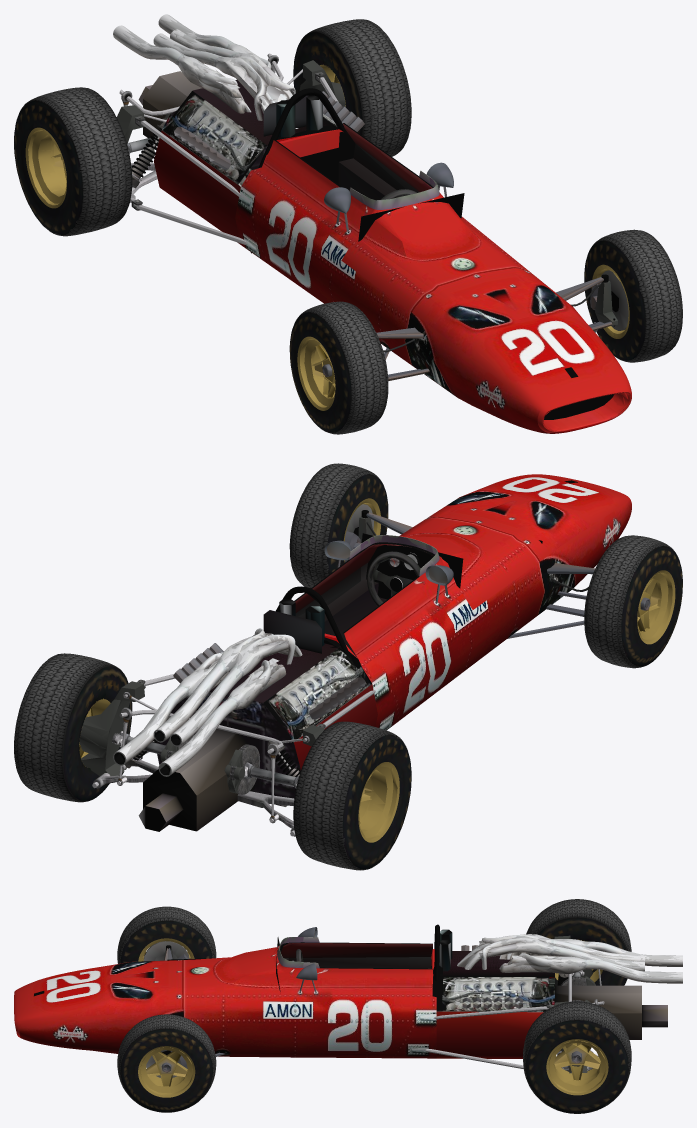
The model's file is ferrari_312.glb.
The picture shows the model from 3 angles, top to bottom: view 1: azimuth 30°, elevation 25°; view 2: azimuth 150°, elevation 25°; view 3: azimuth 270°, elevation 25°; orthographic projection. The views are drawn at different scales.
Visible parts, largest first — view 1: body_mesh (×3), wheel_RL_mesh (×3), wheel_FL_mesh (×3), wheel_FR_mesh (×2), wheel_RR_mesh (×2); view 2: body_mesh (×3), wheel_RL_mesh (×3), wheel_RR_mesh (×2), wheel_FL_mesh (×3), wheel_FR_mesh (×2); view 3: body_mesh (×3), wheel_RR_mesh (×3), wheel_FR_mesh (×3), wheel_FL_mesh (×2), wheel_RL_mesh (×2).
Boxes of the visible parts, x1=… form: body_mesh (×3): x1=113, y1=14, x2=631, y2=433; wheel_RL_mesh (×3): x1=14, y1=87, x2=132, y2=236; wheel_FL_mesh (×3): x1=289, y1=301, x2=388, y2=434; wheel_FR_mesh (×2): x1=584, y1=229, x2=682, y2=362; wheel_RR_mesh (×2): x1=293, y1=19, x2=411, y2=156; body_mesh (×3): x1=79, y1=474, x2=631, y2=836; wheel_RL_mesh (×3): x1=293, y1=721, x2=411, y2=870; wheel_RR_mesh (×2): x1=14, y1=653, x2=132, y2=802; wheel_FL_mesh (×3): x1=584, y1=535, x2=682, y2=668; wheel_FR_mesh (×2): x1=289, y1=463, x2=388, y2=588; body_mesh (×3): x1=14, y1=924, x2=682, y2=1073; wheel_RR_mesh (×3): x1=523, y1=1001, x2=631, y2=1113; wheel_FR_mesh (×3): x1=117, y1=1014, x2=216, y2=1112; wheel_FL_mesh (×2): x1=117, y1=906, x2=216, y2=963; wheel_RL_mesh (×2): x1=526, y1=899, x2=631, y2=985.
Size of the model in its own units: 1.78 by 0.8599 by 4.03.
7 materials, 5 textured.
